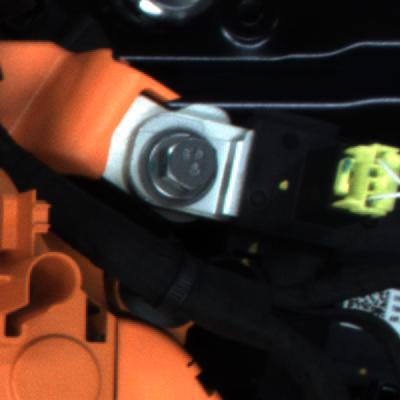nut_b: (135, 129, 231, 215)
